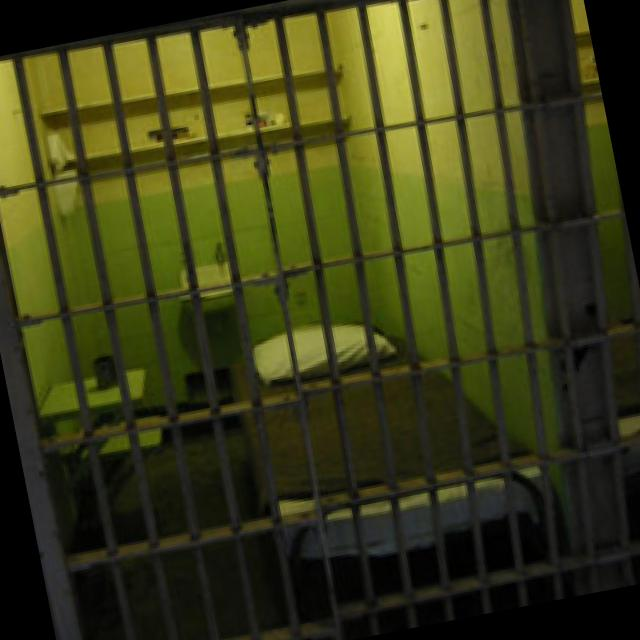bars: (504, 0, 630, 592)
berth: (223, 315, 547, 560)
cell crop: (564, 0, 640, 581)
floor -X: (86, 367, 571, 640)
shelf crop: (36, 60, 336, 118)
wall clock: (31, 2, 378, 423), (319, 0, 569, 580), (0, 53, 101, 636)
washbasin crop: (177, 259, 232, 328)
